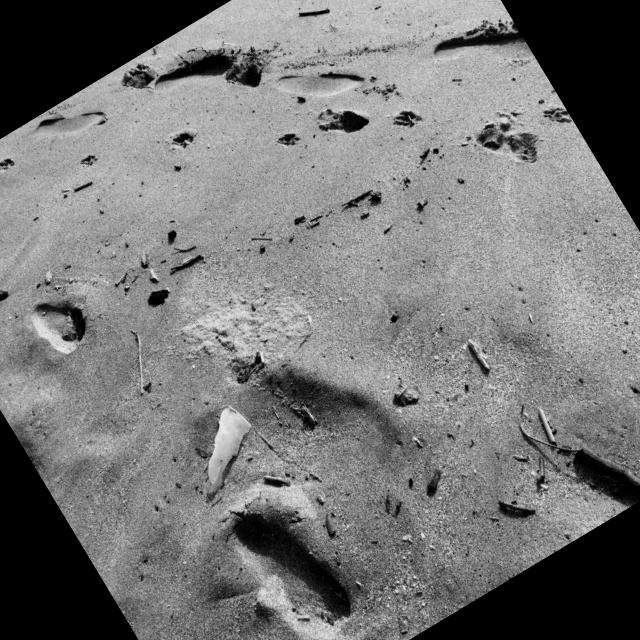Other plastic bottle: (208, 406, 251, 492), (157, 398, 162, 406)
